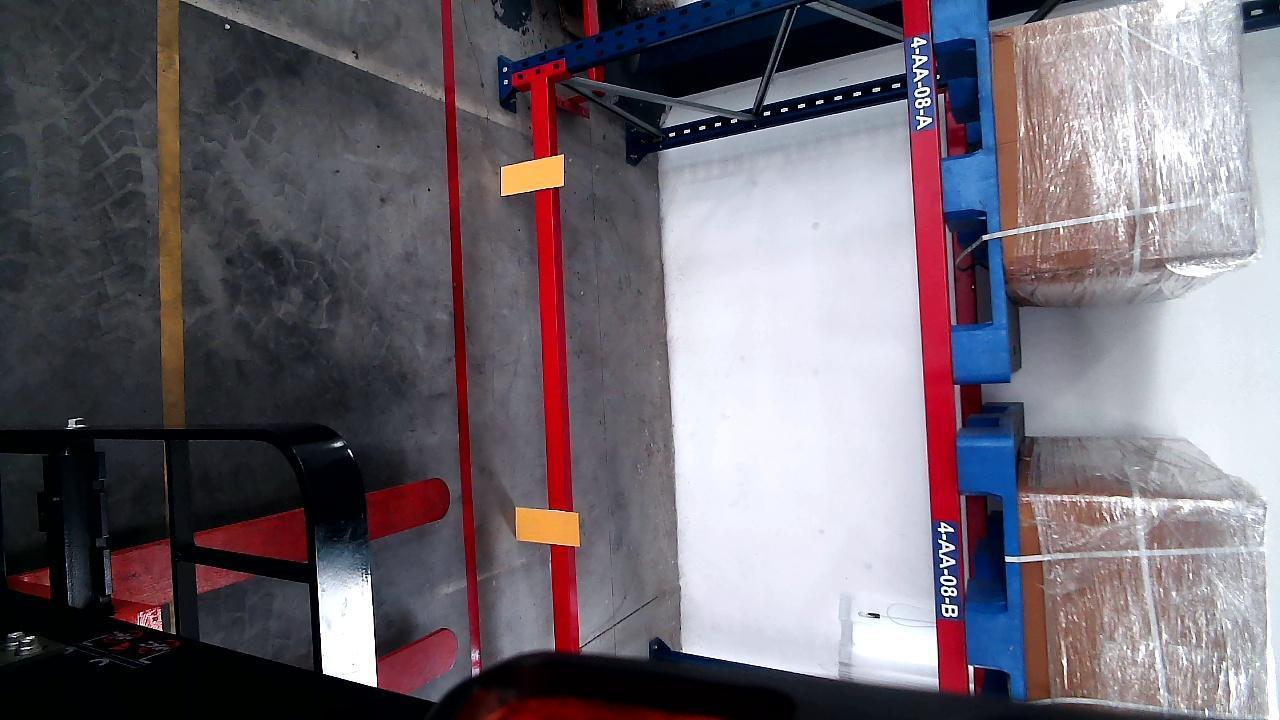h_rack: (904, 0, 967, 701), (531, 76, 575, 646)
orange_strip: (499, 154, 564, 195), (515, 506, 580, 546)
red_line: (434, 0, 490, 671)
small_pallet: (935, 0, 1014, 376), (961, 439, 1024, 701)
yellow_line: (157, 0, 186, 421)
